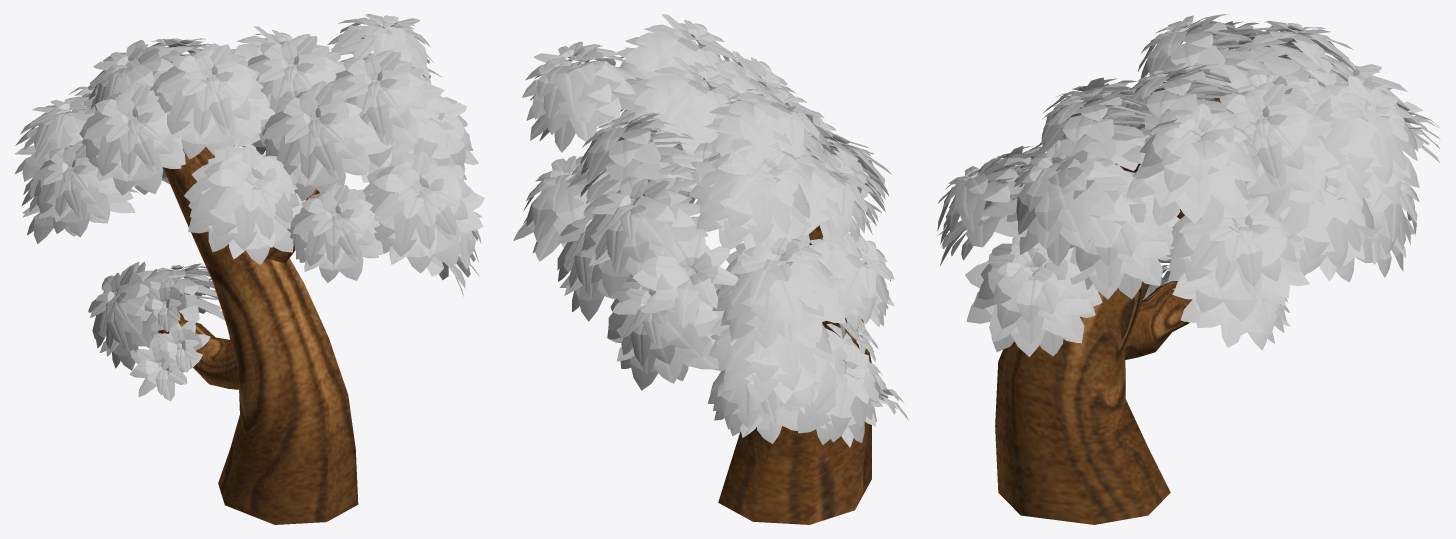
Rendered from TREE.fbx.
3 views of the same model, side by side, from view 1: azimuth 30°, elevation 25°; view 2: azimuth 150°, elevation 25°; view 3: azimuth 270°, elevation 25° (orthographic). The views are drawn at different scales.
Visible parts, largest first — view 1: Tree_LOD0; view 2: Tree_LOD0; view 3: Tree_LOD0.
Part boxes in pixels (box(x1,y1,x2,y2)): Tree_LOD0: box(14, 14, 484, 524); Tree_LOD0: box(513, 14, 908, 524); Tree_LOD0: box(937, 14, 1440, 524).
Size of what is drawn, in the model's own units: 36.86 by 40.82 by 40.13.
